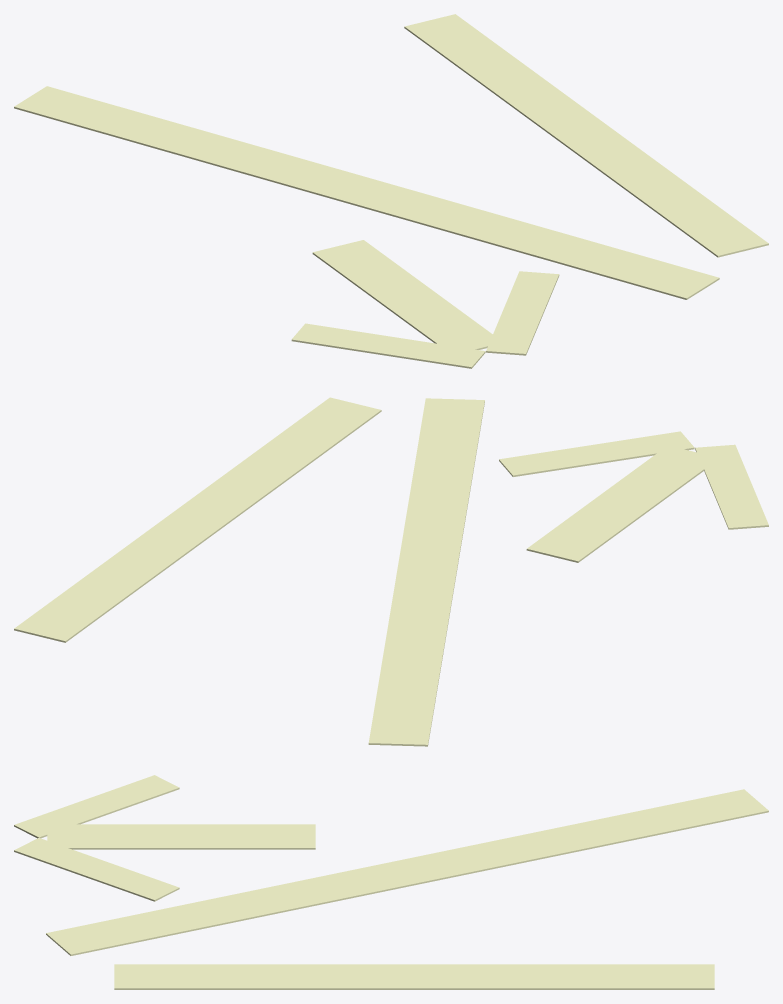
File: marking_merge_left_white.glb
3 renders of one model, top to bottom at view 1: azimuth 30°, elevation 25°; view 2: azimuth 150°, elevation 25°; view 3: azimuth 270°, elevation 25°, orthographic. The views are drawn at different scales.
Visible parts, largest first — view 1: merge_taper, main_lane, arrow_stem, arrow_head_left, arrow_head_right; view 2: merge_taper, main_lane, arrow_stem, arrow_head_right, arrow_head_left; view 3: merge_taper, main_lane, arrow_stem, arrow_head_right, arrow_head_left.
Boxes of the visible parts, <box> form: merge_taper: <box>14,86,719,299</box>; main_lane: <box>404,14,768,257</box>; arrow_stem: <box>312,240,503,354</box>; arrow_head_left: <box>291,323,485,368</box>; arrow_head_right: <box>486,271,559,355</box>; merge_taper: <box>368,398,484,746</box>; main_lane: <box>14,397,381,642</box>; arrow_stem: <box>526,445,718,562</box>; arrow_head_right: <box>499,431,694,476</box>; arrow_head_left: <box>695,444,768,529</box>; merge_taper: <box>46,789,768,955</box>; main_lane: <box>114,964,714,989</box>; arrow_stem: <box>47,824,315,849</box>; arrow_head_right: <box>14,838,179,901</box>; arrow_head_left: <box>14,775,179,838</box>.
Size of the model in its own units: 1.43 by 0.005 by 2.14.
